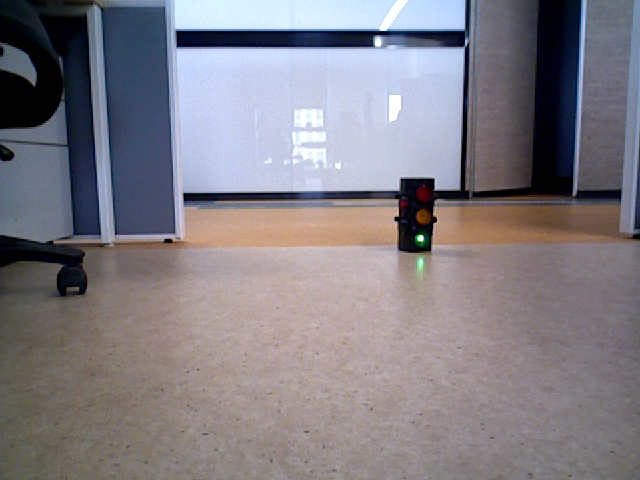green: (399, 181, 431, 248)
